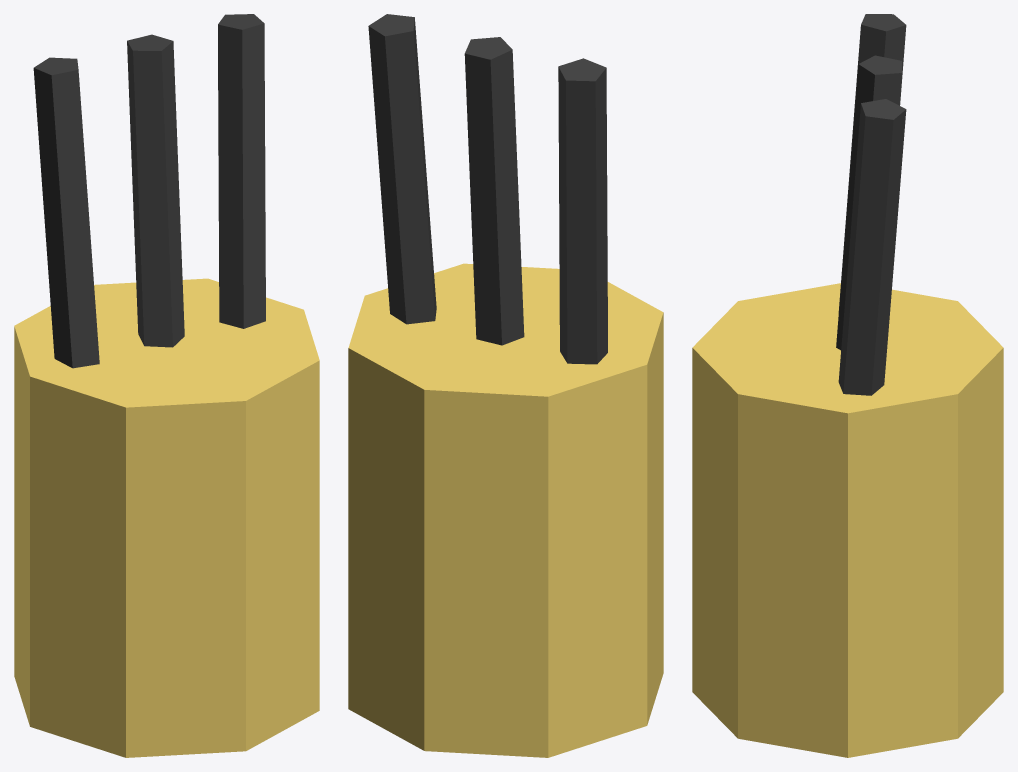
The picture shows the model from 3 angles, left to right: view 1: azimuth 30°, elevation 25°; view 2: azimuth 150°, elevation 25°; view 3: azimuth 270°, elevation 25°; orthographic projection. The views are drawn at different scales.
Parts seen in each view (by area): view 1: Cup; view 2: Cup; view 3: Cup.
Boxes of the visible parts, bbox=[...] form: Cup: bbox=[14, 14, 319, 757]; Cup: bbox=[348, 14, 663, 757]; Cup: bbox=[692, 14, 1003, 757].
Bounding box in the file's own units: 0.09 × 0.2006 × 0.09.
Materials: 1 (1 with a texture image).
